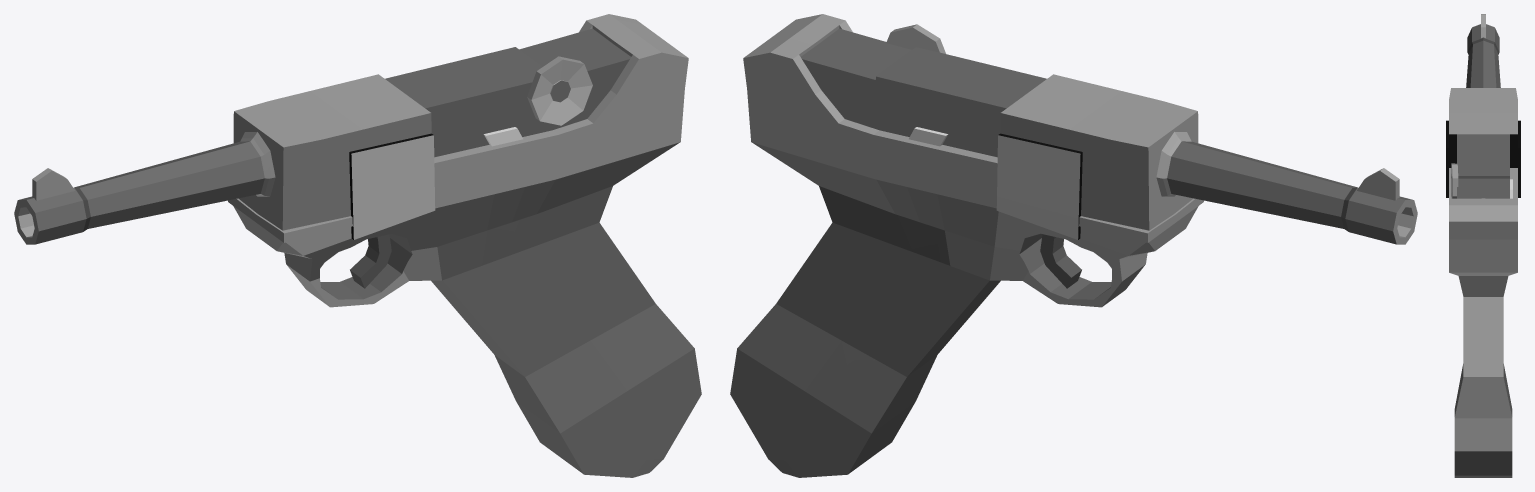
The model's file is GunModel.fbx.
The picture shows the model from 3 angles, left to right: view 1: azimuth 30°, elevation 25°; view 2: azimuth 150°, elevation 25°; view 3: azimuth 270°, elevation 25°; orthographic projection. The views are drawn at different scales.
Visible parts, largest first — view 1: GunModel; view 2: GunModel; view 3: GunModel.
Boxes of the visible parts, bbox=[...] form: GunModel: bbox=[14, 14, 701, 477]; GunModel: bbox=[730, 14, 1417, 477]; GunModel: bbox=[1446, 14, 1520, 477].
Size of the model in its own units: 42.73 by 27.34 by 6.49.
